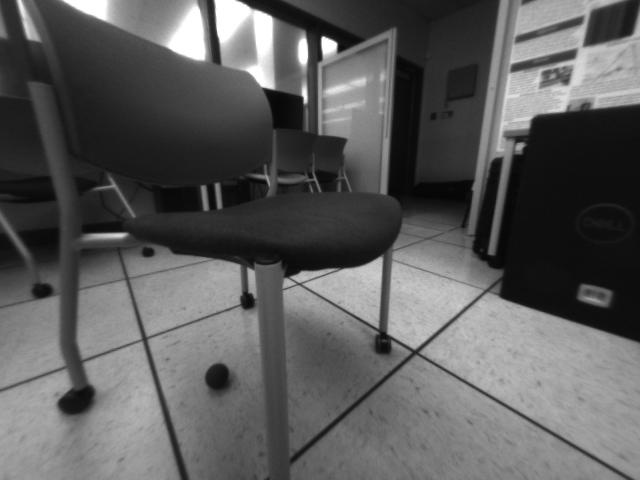dogtoy: (196, 353, 239, 398)
